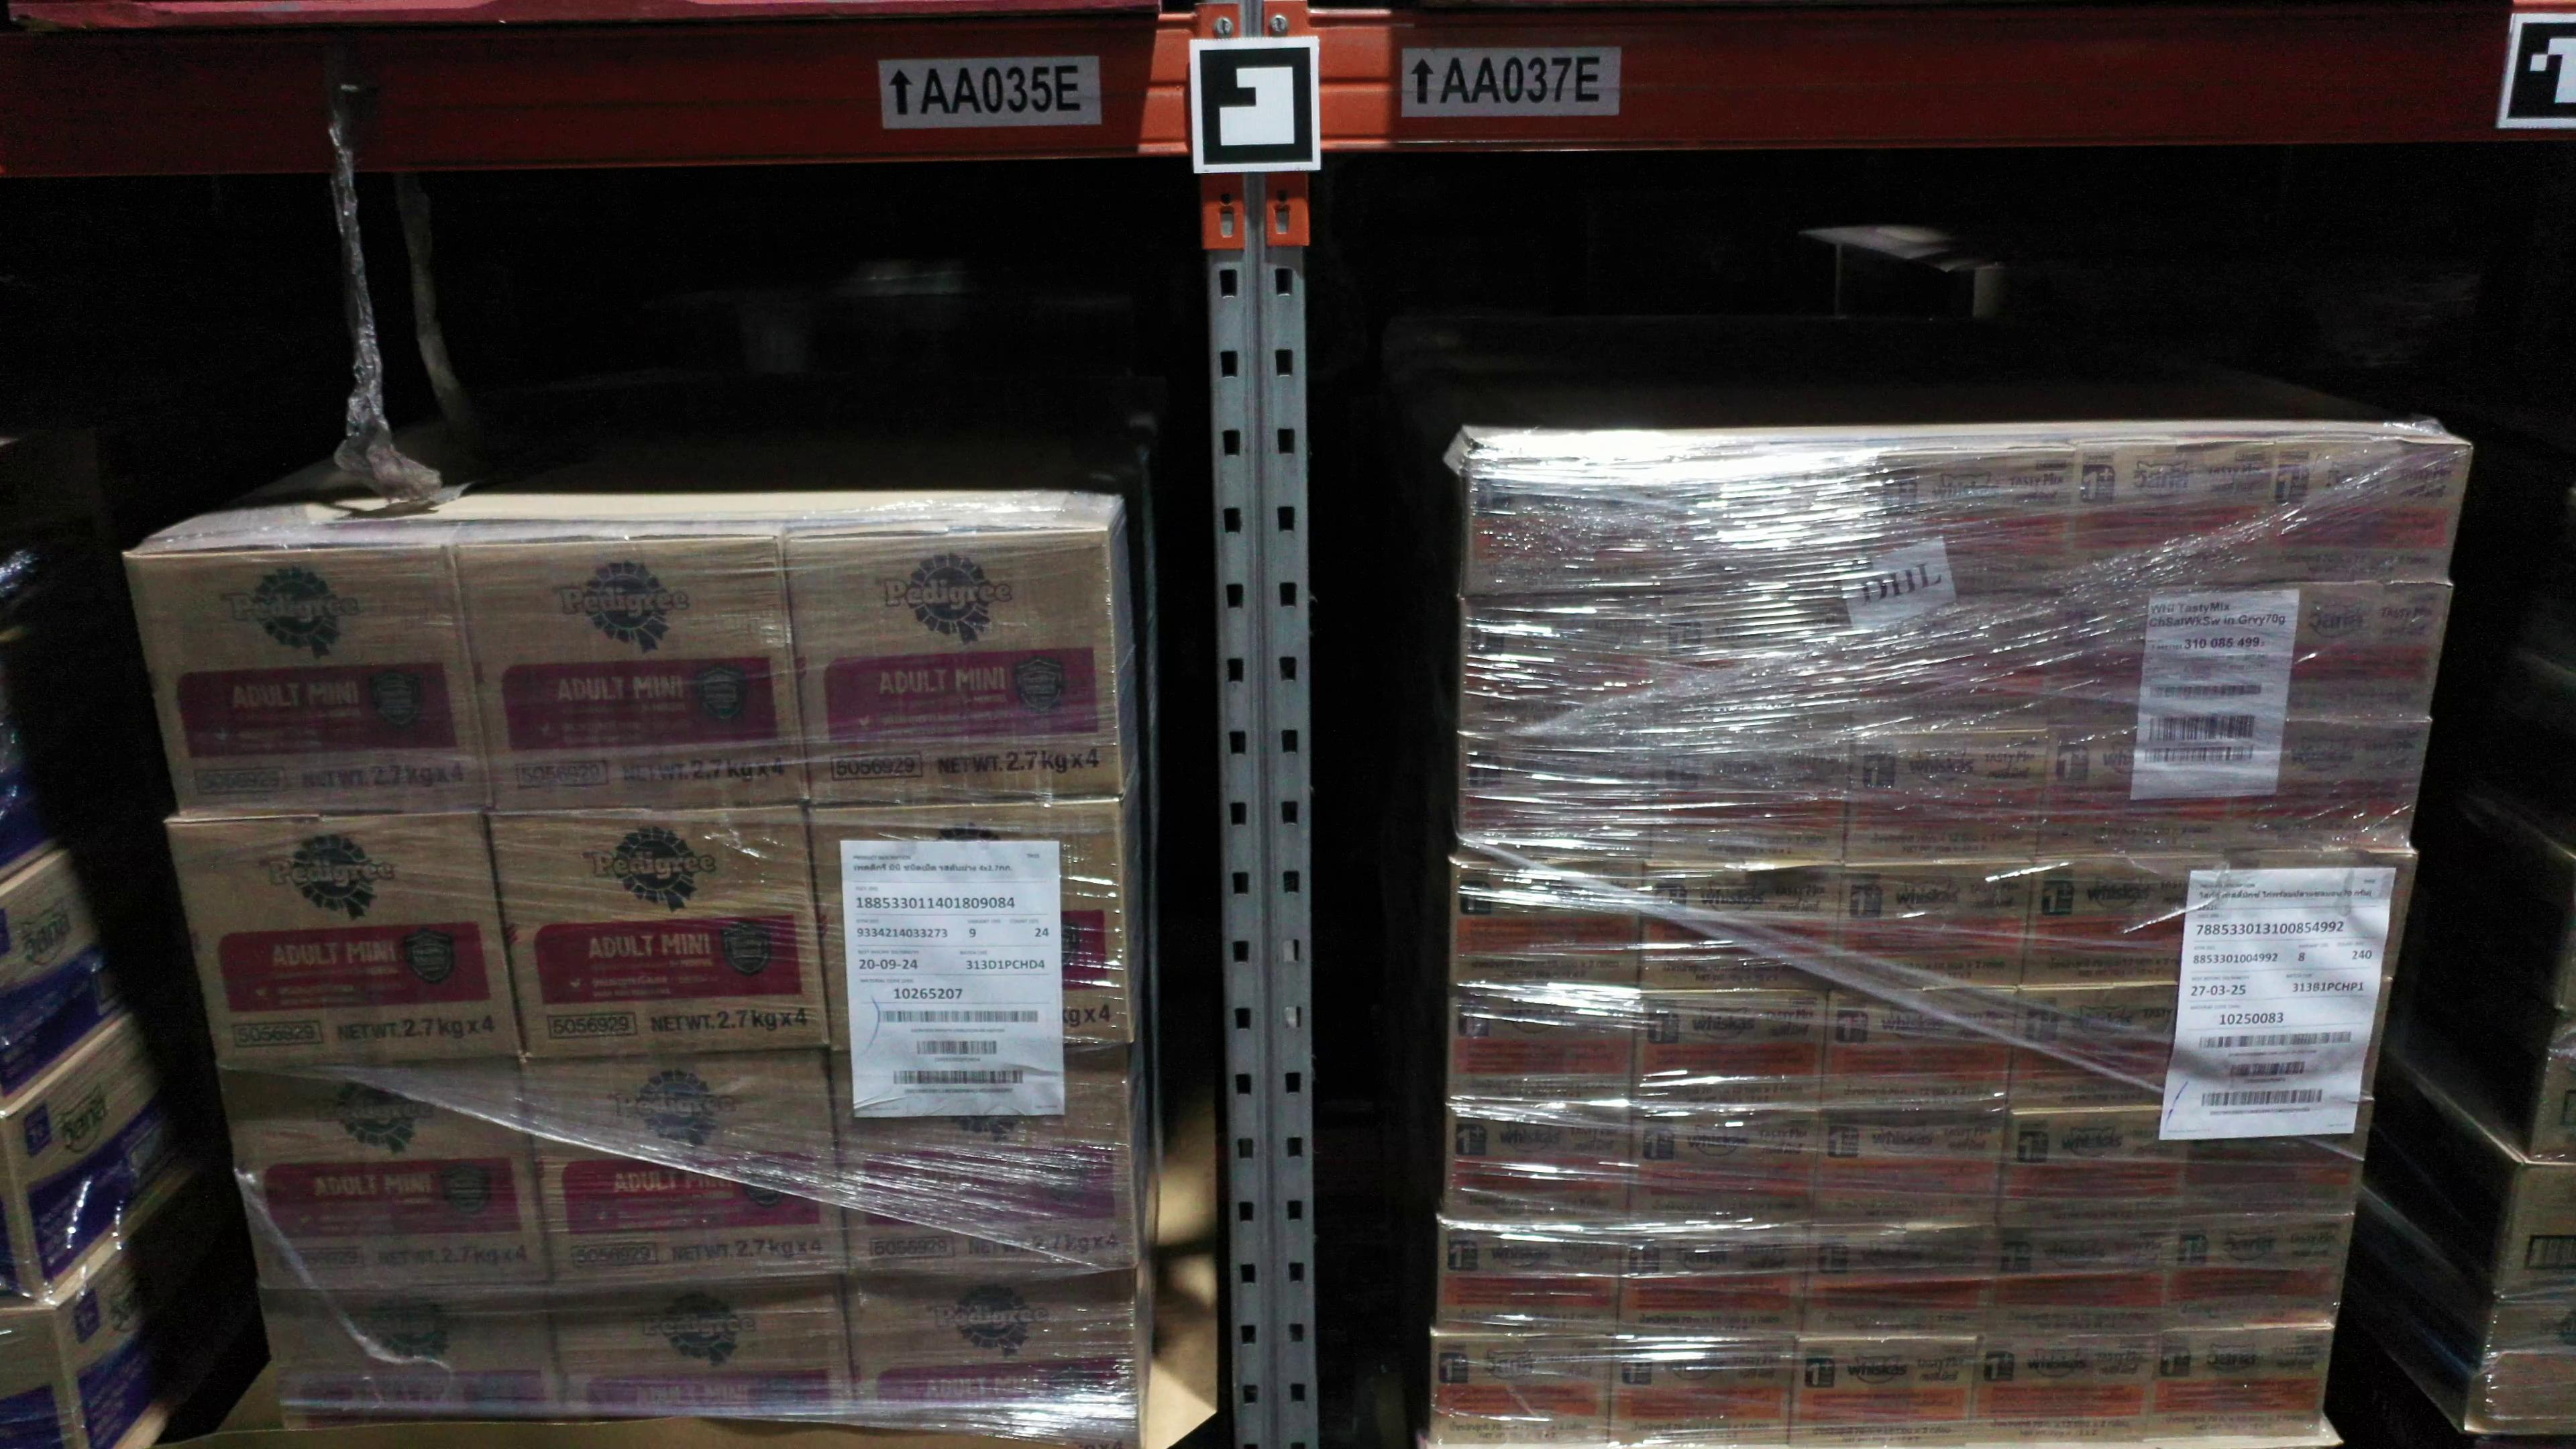-: (124, 541, 490, 819), (451, 541, 812, 821), (782, 527, 1129, 807), (163, 814, 527, 1067), (490, 805, 832, 1062), (812, 796, 1132, 1053), (219, 1060, 552, 1295), (525, 1047, 849, 1286), (830, 1042, 1136, 1274), (849, 1270, 1136, 1440), (548, 1281, 855, 1422), (264, 1288, 561, 1430), (2068, 446, 2279, 591), (1667, 449, 1870, 596), (2052, 586, 2265, 725), (2270, 439, 2473, 584), (1867, 449, 2074, 591), (1468, 451, 1670, 596), (1660, 591, 1865, 729), (1854, 591, 2059, 729), (1845, 727, 2049, 865), (2231, 713, 2431, 853), (1460, 600, 1663, 736), (2256, 582, 2456, 720), (2042, 720, 2240, 858), (1456, 727, 1658, 862), (2022, 849, 2226, 982), (1642, 858, 1842, 993), (1652, 731, 1851, 865), (2217, 849, 2415, 984), (1833, 858, 2033, 991), (1451, 856, 1645, 993), (2013, 982, 2217, 1109), (2203, 973, 2390, 1104), (1637, 991, 1831, 1116), (1447, 989, 1637, 1116), (1828, 989, 2019, 1113), (1440, 1109, 1633, 1231), (1813, 1111, 2010, 1230), (1799, 1226, 2001, 1341), (1629, 1109, 1821, 1230), (2003, 1108, 2192, 1228), (1619, 1223, 1812, 1338), (1440, 1221, 1626, 1339), (1610, 1330, 1798, 1447), (2150, 1322, 2330, 1442), (1789, 1332, 1982, 1444), (1989, 1223, 2178, 1336), (2180, 1100, 2367, 1214), (1974, 1329, 2158, 1444), (2169, 1212, 2355, 1325), (1431, 1332, 1612, 1447), (2465, 1293, 2576, 1431), (0, 1307, 87, 1449), (2498, 1154, 2576, 1299)
